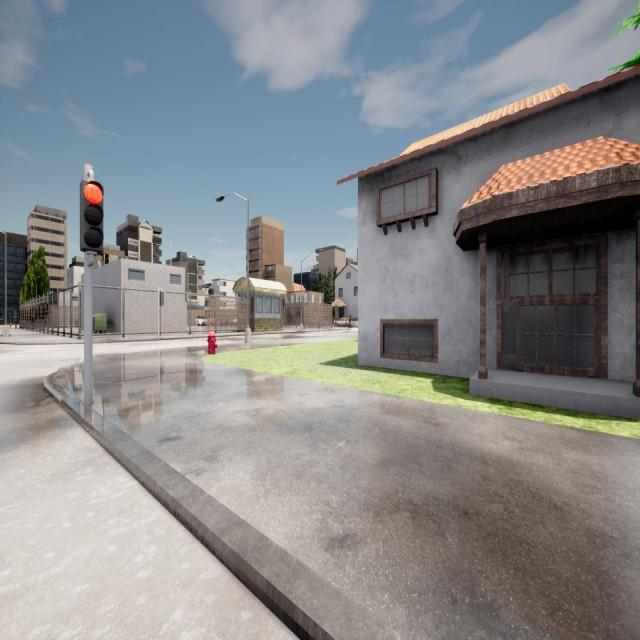Pedestrian: (12, 312, 18, 330), (349, 313, 352, 327)
Vehicle: (333, 318, 349, 328), (196, 315, 208, 327)
traffic_light: (80, 180, 104, 252), (159, 292, 164, 305)
